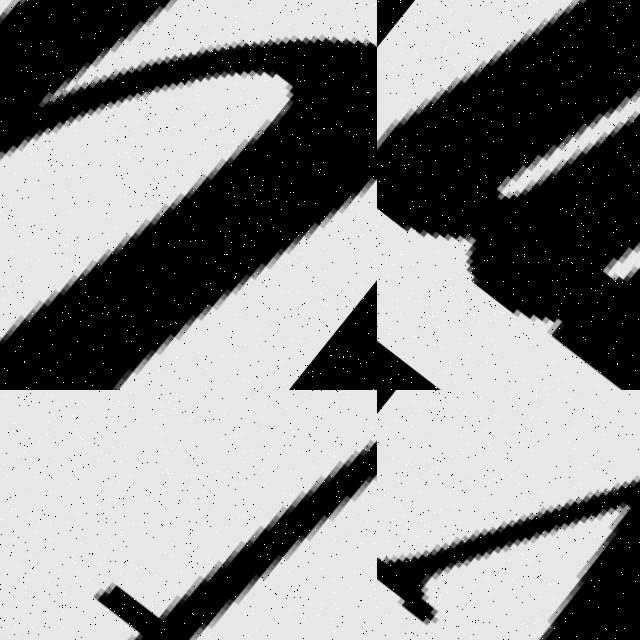F: (93, 443, 377, 640)
M: (377, 0, 640, 390)
U: (0, 0, 377, 390)
W: (377, 390, 640, 640)
